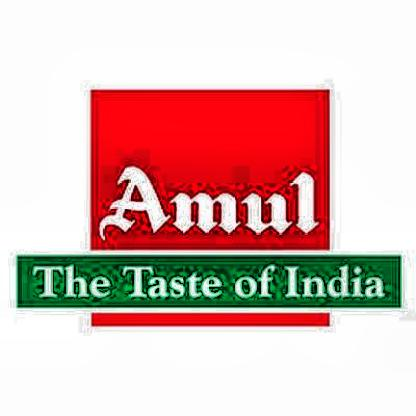Amul: (20, 90, 401, 330), (98, 167, 315, 245)
